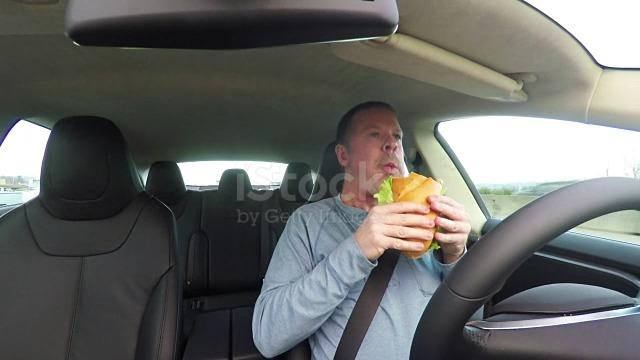Eating: (305, 87, 460, 256)
